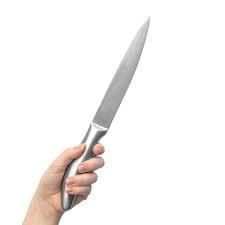Knife: (60, 15, 150, 210)
